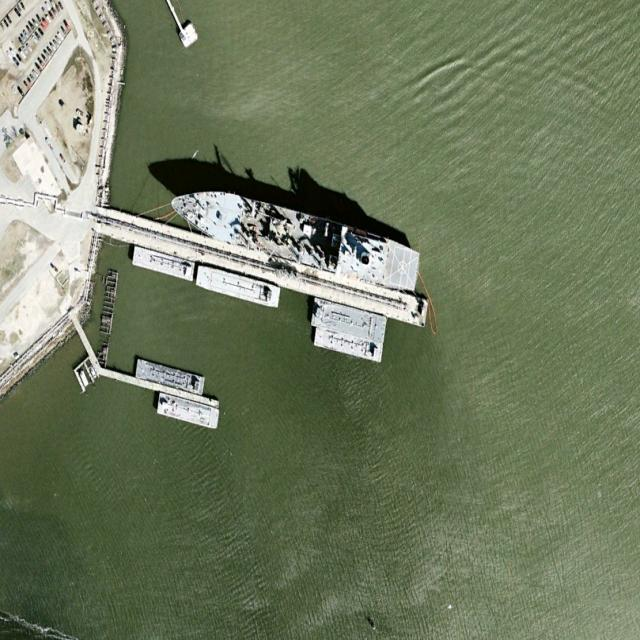Commander: (165, 175, 421, 297)
